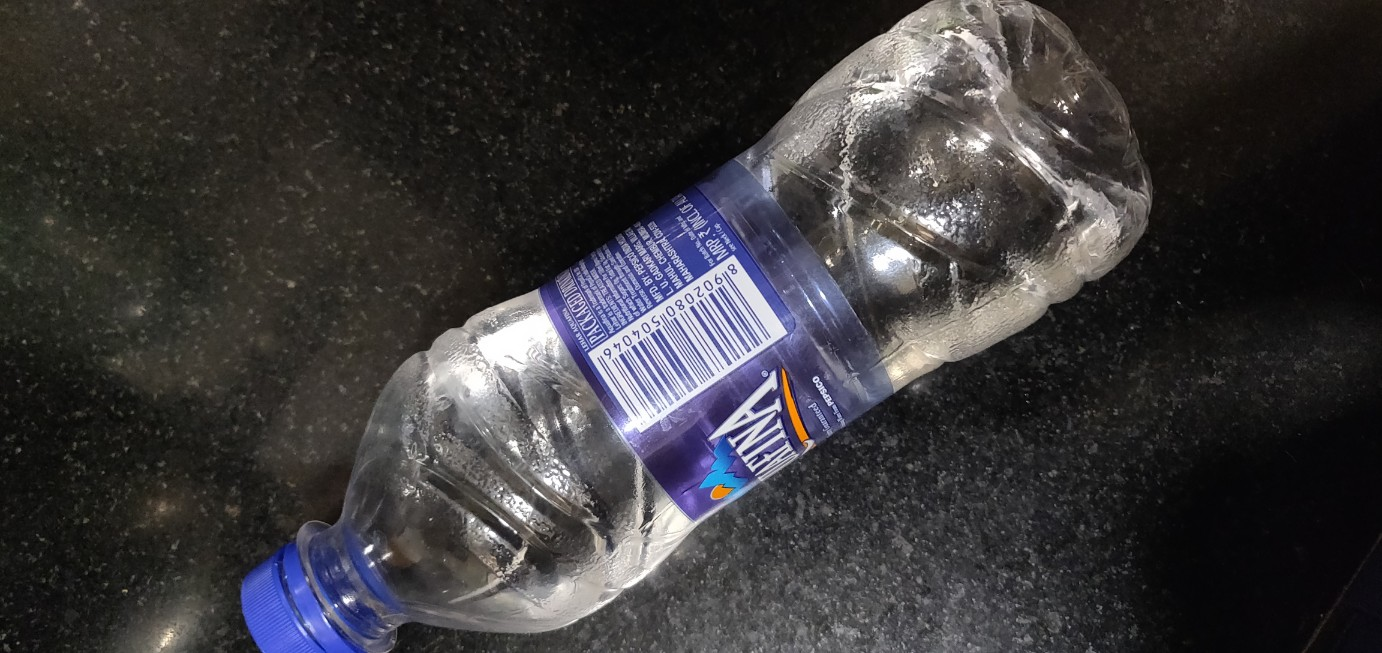Electronics: (213, 1, 1169, 653)
